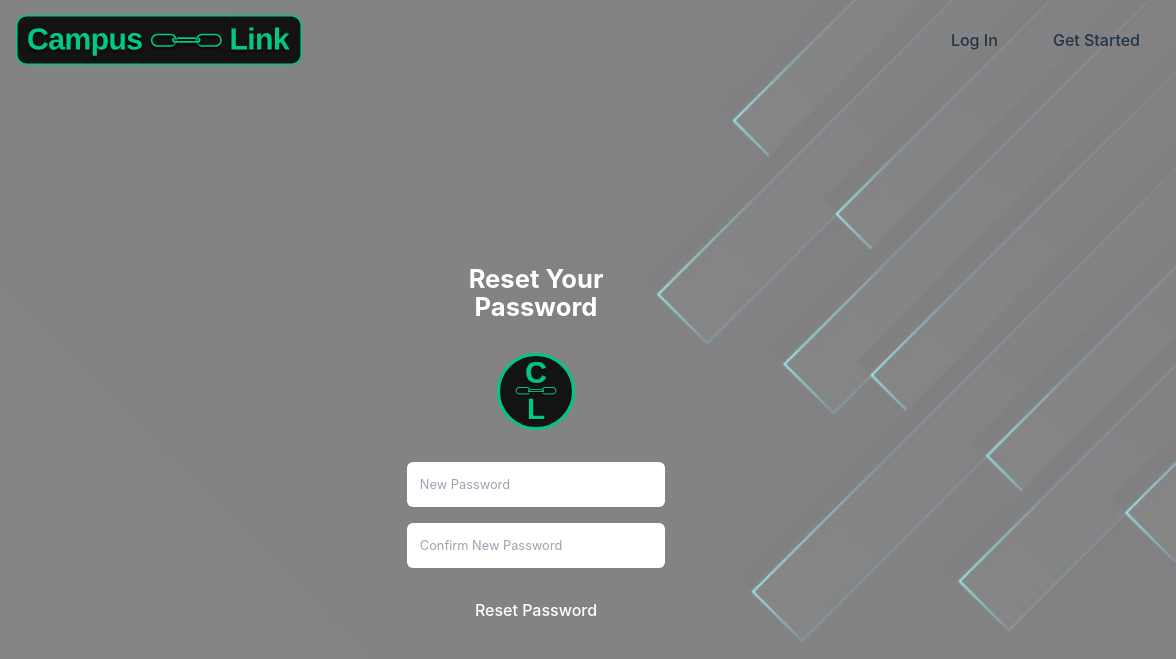
Password Reset Page › shows error when passwords do not match
The width and height of the screenshot is (1176, 659).
Note: Enter passwords (mismatched)
Step 1. Type "Password123!" into the password field with test id "new-password" → (536, 485), box [407,462,665,507]
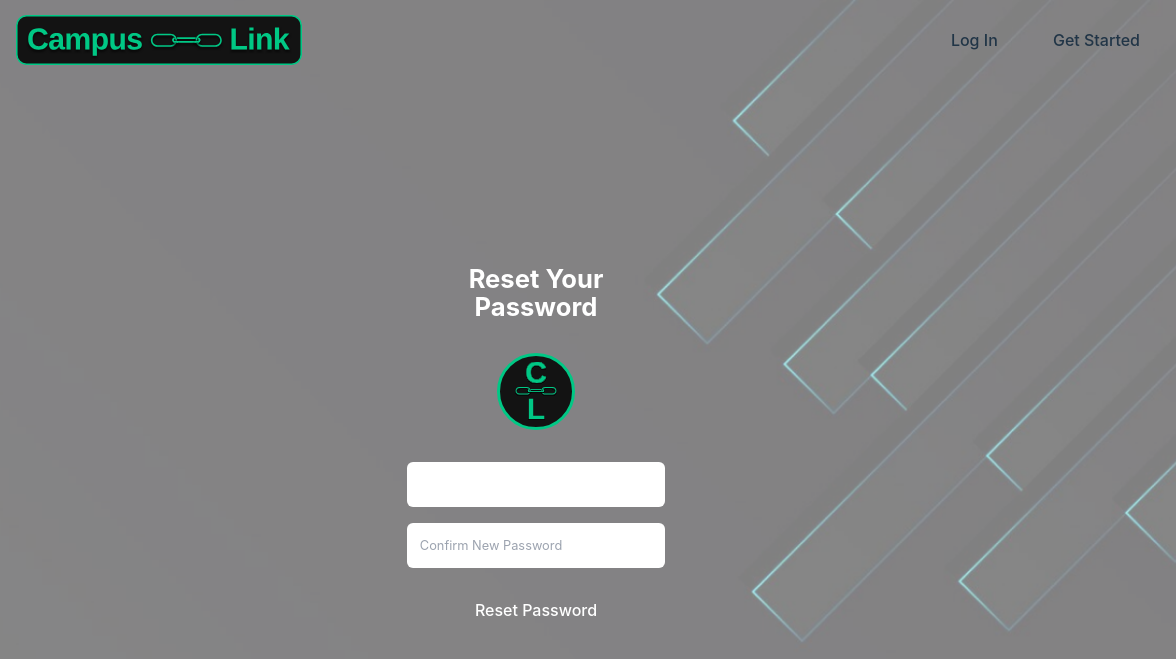
Step 2. Type "DifferentPass!" into the password field with test id "confirm-password" → (536, 545), box [407,523,665,568]
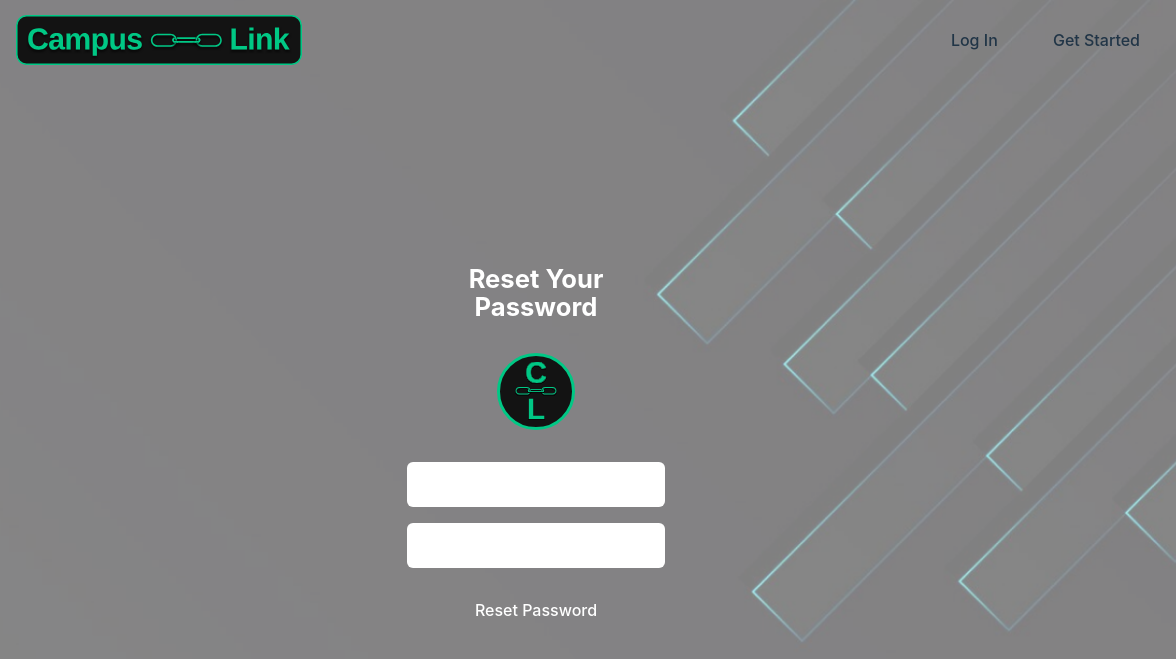
Note: Click submit
Step 3. Click the button "Reset Password" → (536, 610), box [407,584,665,635]
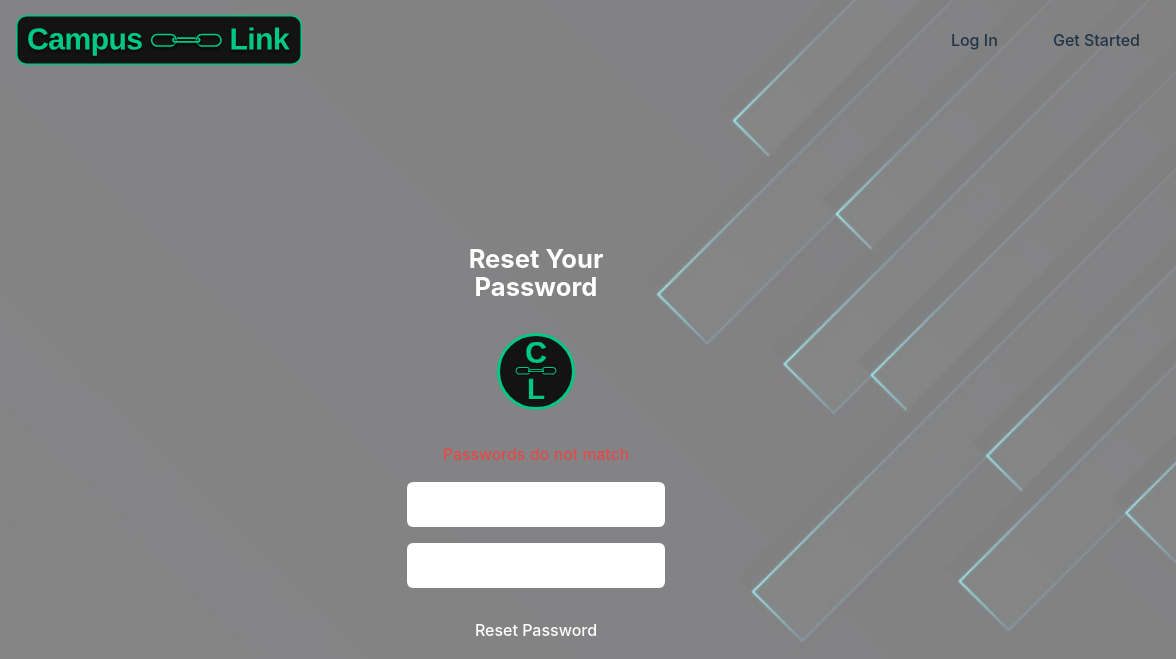
Now the text "Passwords do not match" is shown, box [443,442,629,466]
